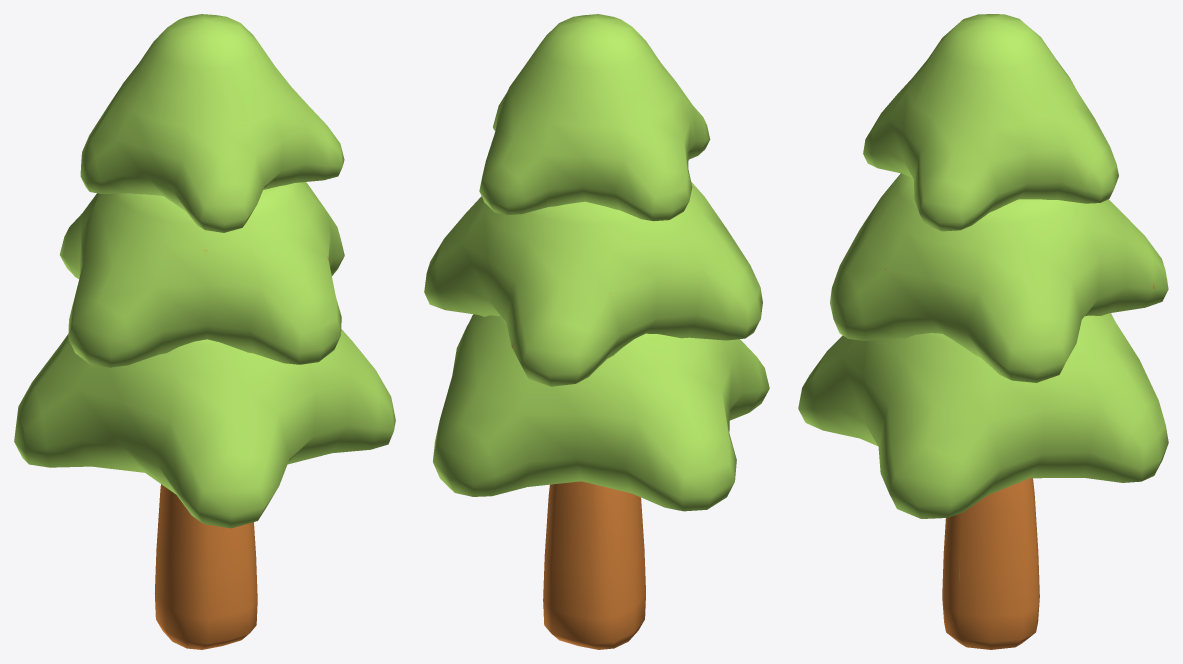
File: pino  uv.fbx
The picture shows the model from 3 angles, left to right: view 1: azimuth 30°, elevation 25°; view 2: azimuth 150°, elevation 25°; view 3: azimuth 270°, elevation 25°; orthographic projection.
Visible parts, largest first — view 1: Cube; view 2: Cube; view 3: Cube.
Boxes of the visible parts, x1=… form: Cube: x1=14, y1=14, x2=395, y2=649; Cube: x1=424, y1=14, x2=769, y2=649; Cube: x1=798, y1=14, x2=1168, y2=649.
Size of the model in its own units: 400 by 737 by 400.
